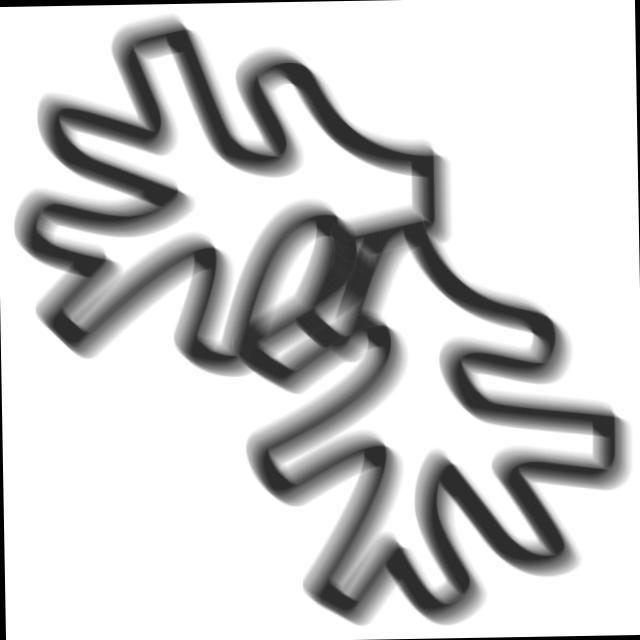coral: (235, 212, 640, 637), (7, 3, 451, 385)
